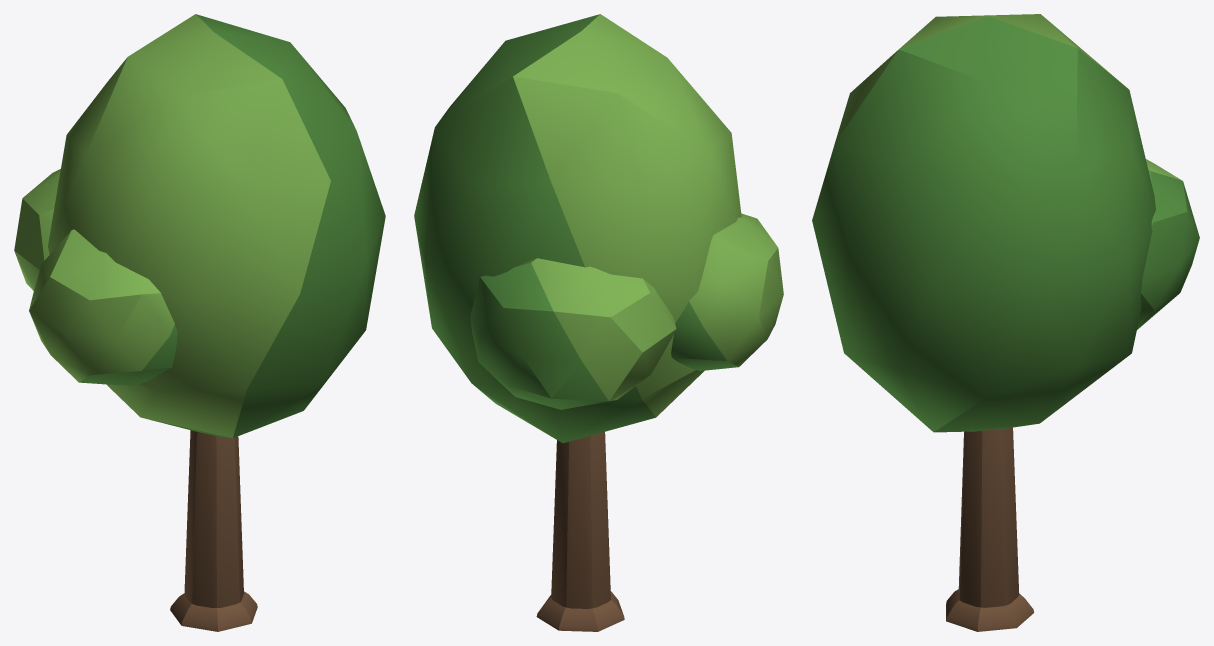
File: RoundTree_B.fbx
The picture shows the model from 3 angles, left to right: view 1: azimuth 30°, elevation 25°; view 2: azimuth 150°, elevation 25°; view 3: azimuth 270°, elevation 25°; orthographic projection. The views are drawn at different scales.
Parts seen in each view (by area): view 1: RoundTree_B; view 2: RoundTree_B; view 3: RoundTree_B.
Boxes of the visible parts, bbox=[...] form: RoundTree_B: bbox=[14, 14, 385, 631]; RoundTree_B: bbox=[414, 14, 783, 631]; RoundTree_B: bbox=[812, 14, 1199, 631].
Bounding box in the file's own units: 2.33 × 3.99 × 2.34.
